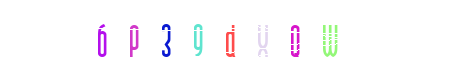3: (152, 0, 232, 80)
6: (126, 0, 206, 80)
9: (153, 0, 233, 80)
D: (190, 0, 270, 80)
P: (135, 0, 215, 80)
Q: (205, 0, 285, 80)
W: (289, 0, 369, 80)
X: (190, 0, 270, 80)
